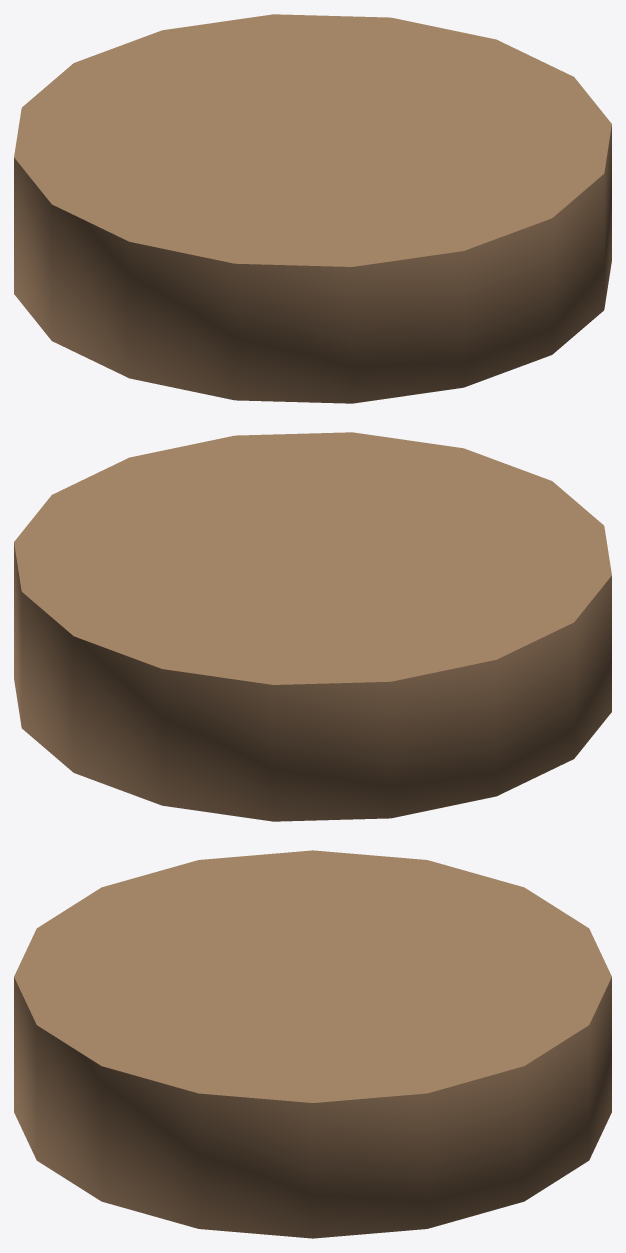
Rendered from Stump.fbx.
The picture shows the model from 3 angles, top to bottom: view 1: azimuth 30°, elevation 25°; view 2: azimuth 150°, elevation 25°; view 3: azimuth 270°, elevation 25°; orthographic projection.
Visible parts, largest first — view 1: Stump; view 2: Stump; view 3: Stump.
Part boxes in pixels (<box>): Stump: <box>14,14,611,403</box>; Stump: <box>14,432,611,821</box>; Stump: <box>14,850,611,1238</box>.
Bounding box in the file's own units: 2 × 0.5 × 2.
